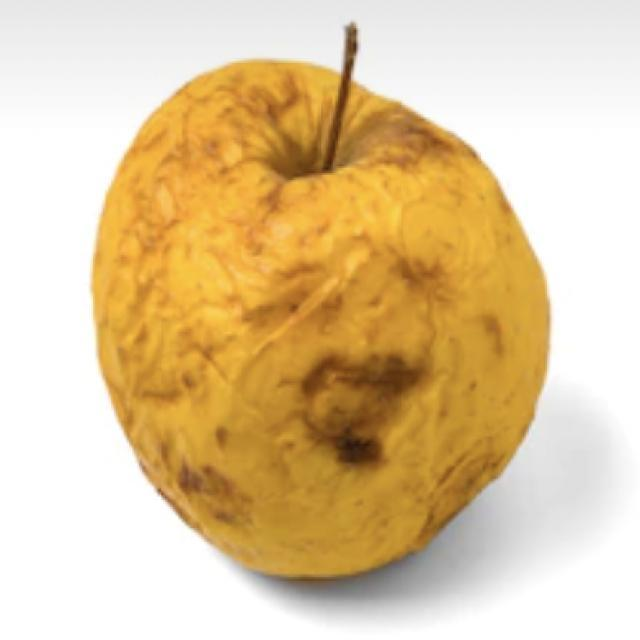Rotten: (88, 59, 550, 574)
